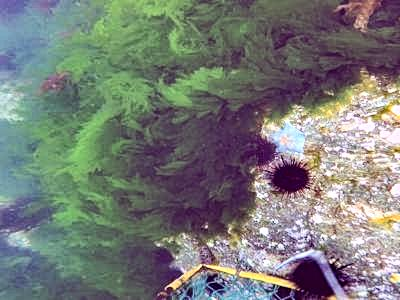urchin: (293, 262, 343, 289), (270, 161, 306, 193), (251, 136, 276, 160)
